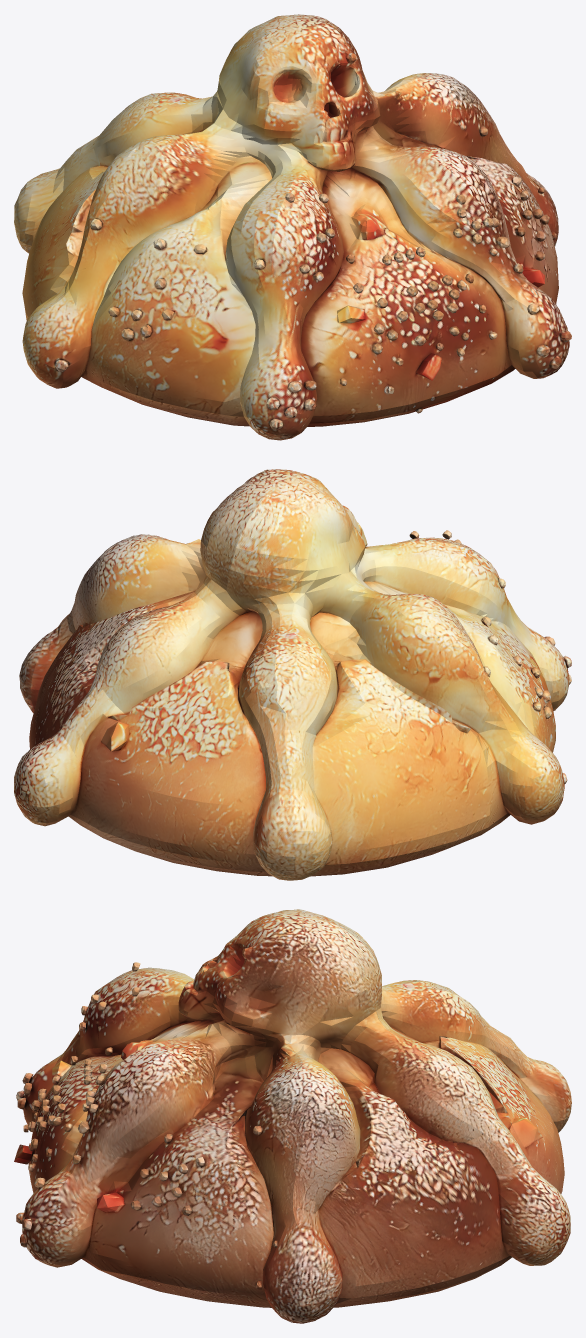
File: pan.obj
The picture shows the model from 3 angles, top to bottom: view 1: azimuth 30°, elevation 25°; view 2: azimuth 150°, elevation 25°; view 3: azimuth 270°, elevation 25°; orthographic projection. The views are drawn at different scales.
Parts seen in each view (by area): view 1: base:Mesh; view 2: base:Mesh; view 3: base:Mesh.
Boxes of the visible parts, x1=… form: base:Mesh: x1=14, y1=14, x2=571, y2=440; base:Mesh: x1=14, y1=469, x2=571, y2=880; base:Mesh: x1=14, y1=909, x2=571, y2=1323.
Size of the model in its own units: 0.2337 by 0.1249 by 0.2122.
Materials: 1 (1 with a texture image).
